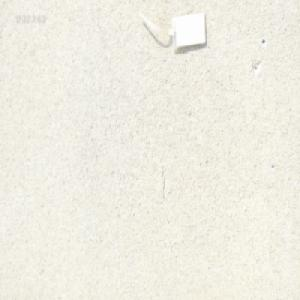LuggageTag: (135, 7, 208, 54)
